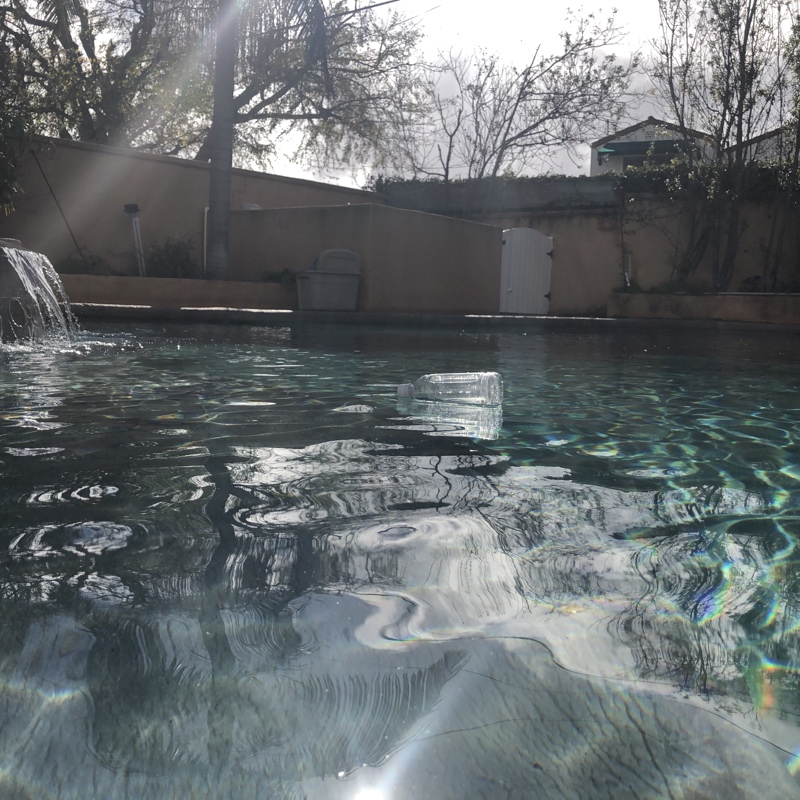Plastic Bottle: (392, 368, 507, 412)
